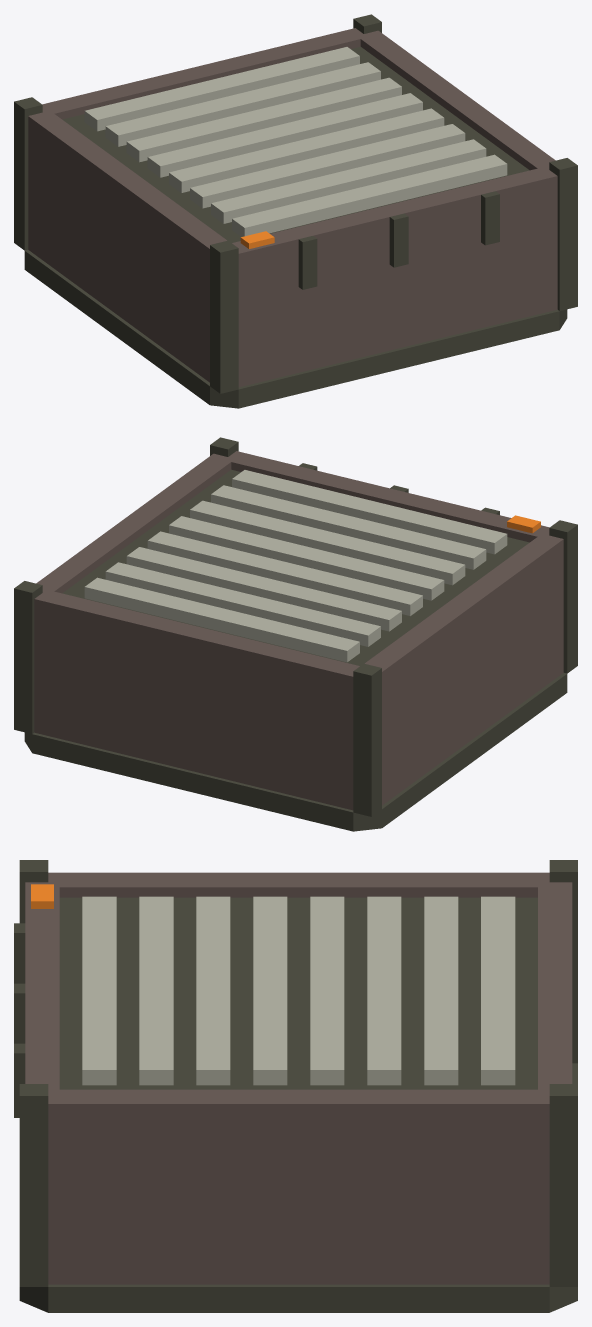
File: ancient_sealed_container_closed.obj
3 views of the same model, one above another, from view 1: azimuth 30°, elevation 25°; view 2: azimuth 150°, elevation 25°; view 3: azimuth 270°, elevation 25° (orthographic). The views are drawn at different scales.
Visible parts, largest first — view 1: ancient_sealed_container_closed; view 2: ancient_sealed_container_closed; view 3: ancient_sealed_container_closed.
Boxes of the visible parts, x1,y1,x2,y2 form: ancient_sealed_container_closed: (14, 14, 577, 408); ancient_sealed_container_closed: (14, 437, 577, 831); ancient_sealed_container_closed: (14, 860, 577, 1312).
Size of the model in its own units: 1.96 by 0.84 by 1.98.
